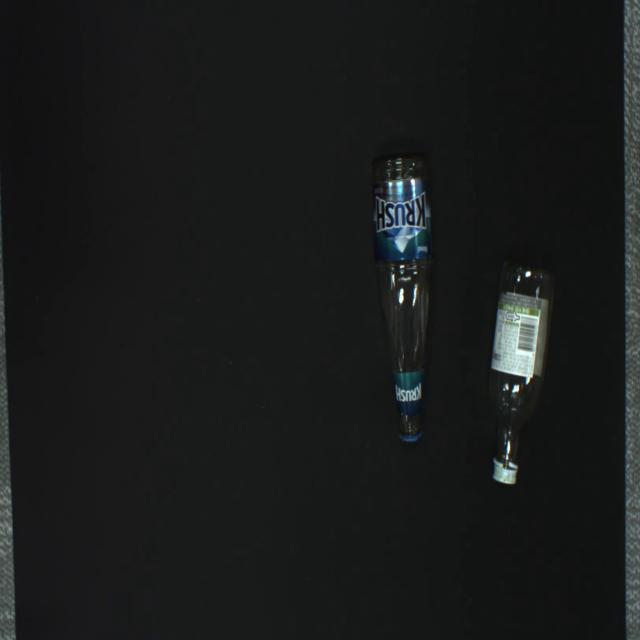beer-bottle: (371, 157, 433, 443)
soju-bottle: (489, 264, 555, 485)
